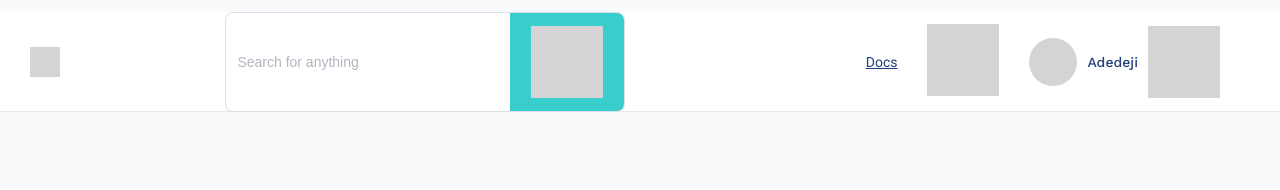
Test: DashboardNavbar › user dropdown toggles on click
The width and height of the screenshot is (1280, 190).
Expected: the text "Profile" is not shown
Click the text "Adedeji" at [1125, 62], box top-left (1029, 26), bottom-right (1220, 98)
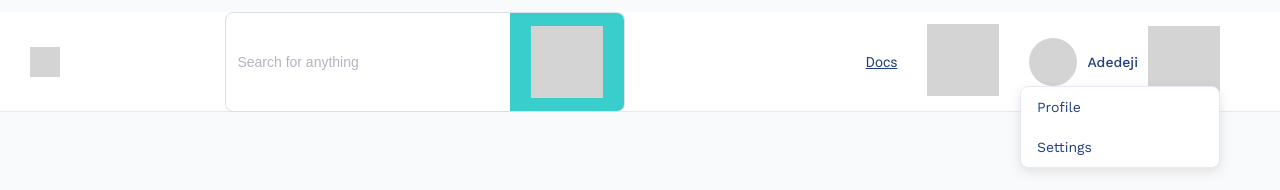
Now the button "Profile" is shown, box top-left (1021, 86), bottom-right (1219, 126)
Now the button "Settings" is shown, box top-left (1021, 126), bottom-right (1219, 166)
Click the text "Adedeji Profile Settings" at [1125, 62], box top-left (1029, 26), bottom-right (1220, 98)
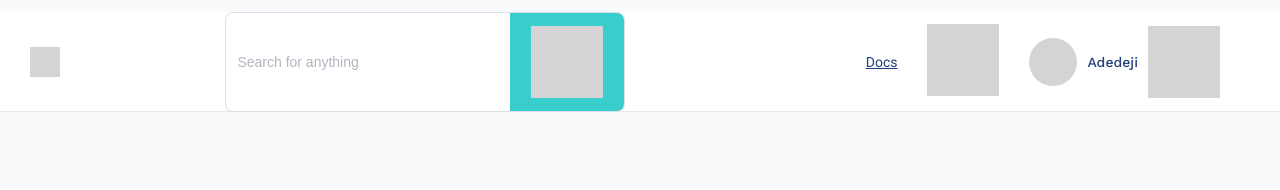
Now the button "Profile" is gone
